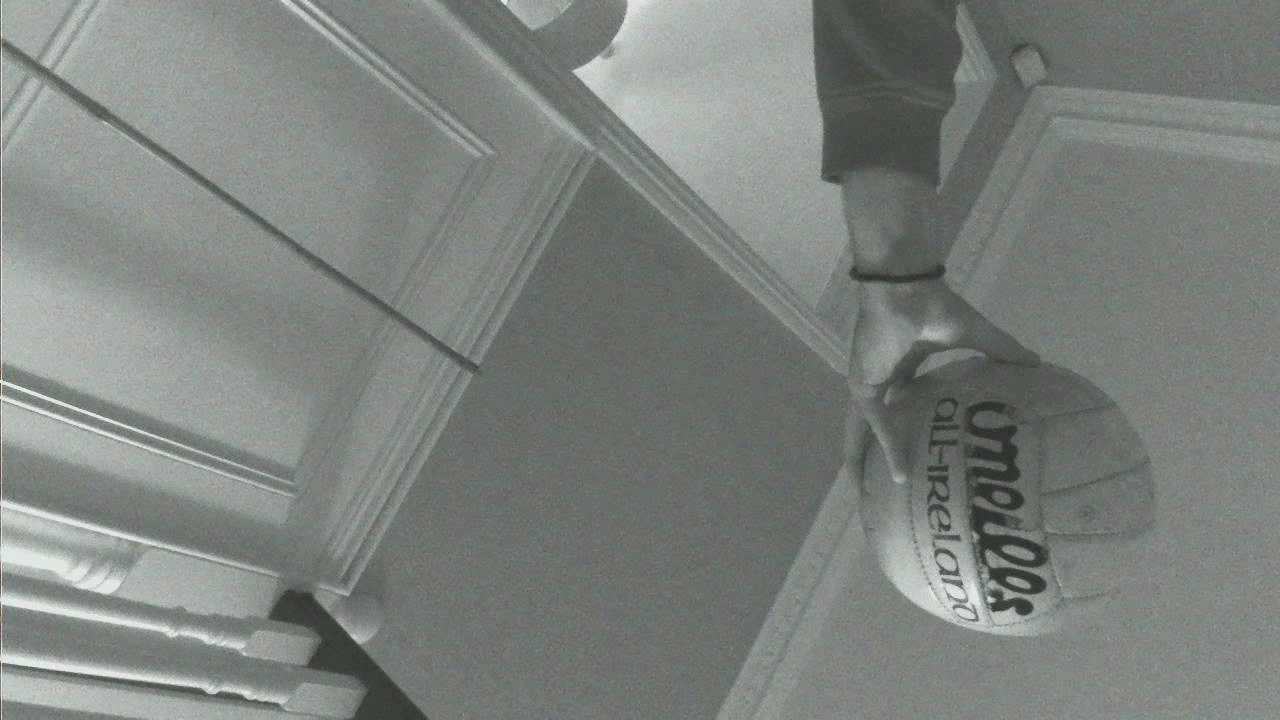Football-Spotter: (862, 357, 1154, 635)
